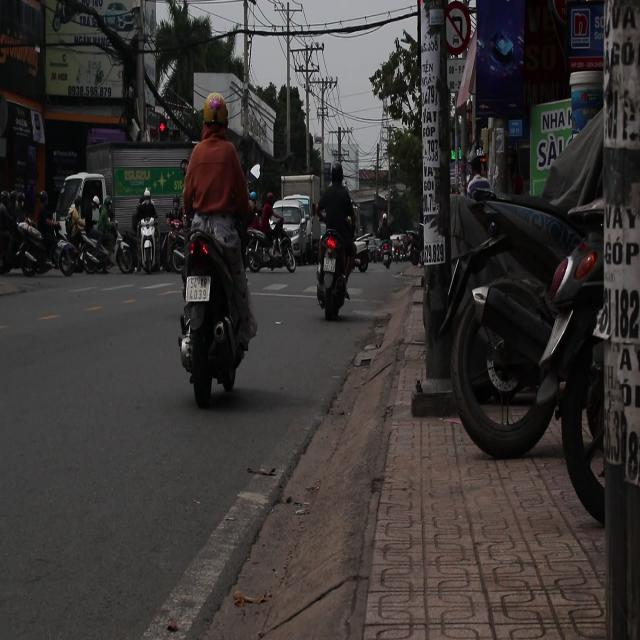motorbike: (179, 220, 255, 408), (310, 199, 362, 332), (16, 219, 75, 279), (244, 218, 298, 274), (65, 225, 112, 276), (160, 219, 188, 275), (134, 215, 158, 274)
truck: (271, 188, 320, 284)
